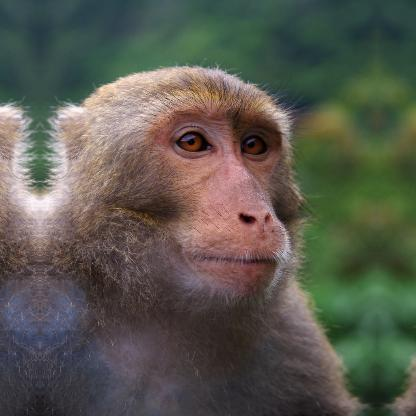Monkey: (39, 71, 369, 415)
